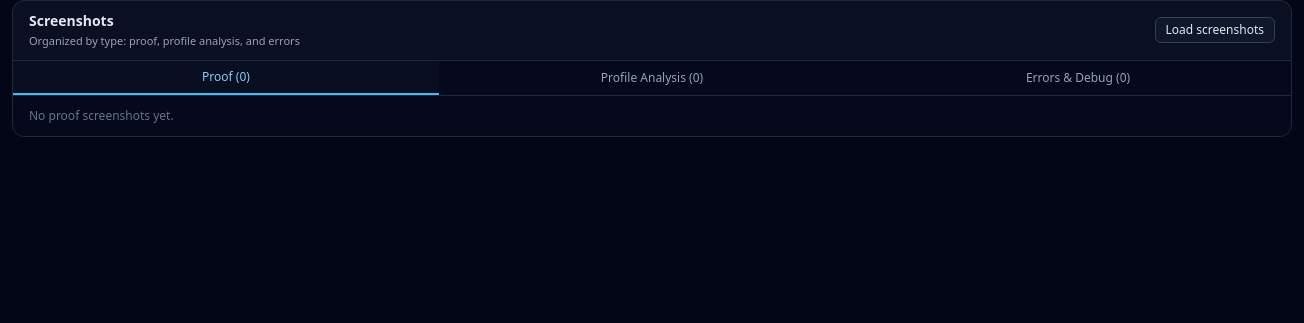
Test: Screenshots › shows message when no screenshots in current tab
The image size is (1304, 323).
Click the button "Load screenshots" at x=1215, y=30, box 1154,17 -> 1275,43
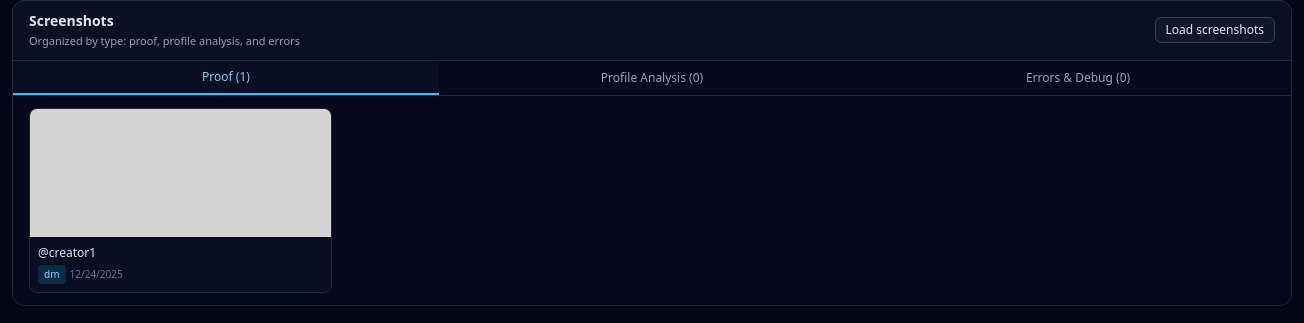
Check: the text "@creator1" is shown, box 38,244 -> 96,260
Click the tab "Profile Analysis (0)" at x=652, y=78, box 439,60 -> 865,94
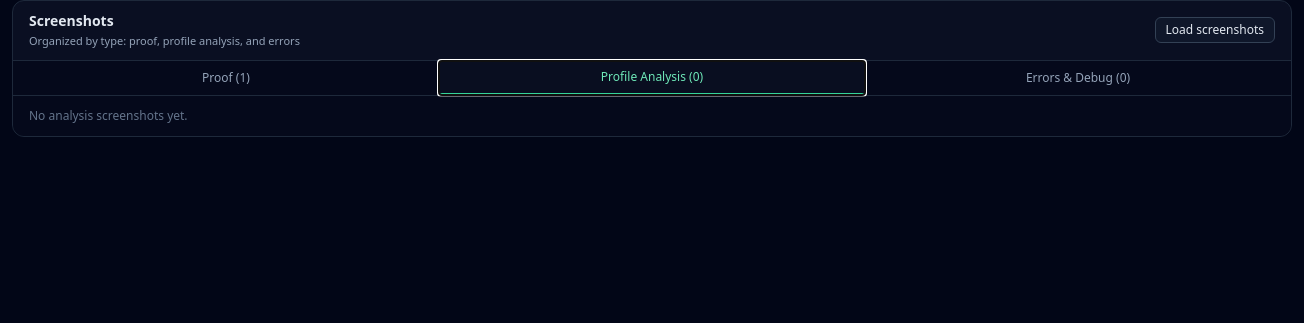
Check: the text "No analysis screenshots yet." is shown, box 29,106 -> 188,124
